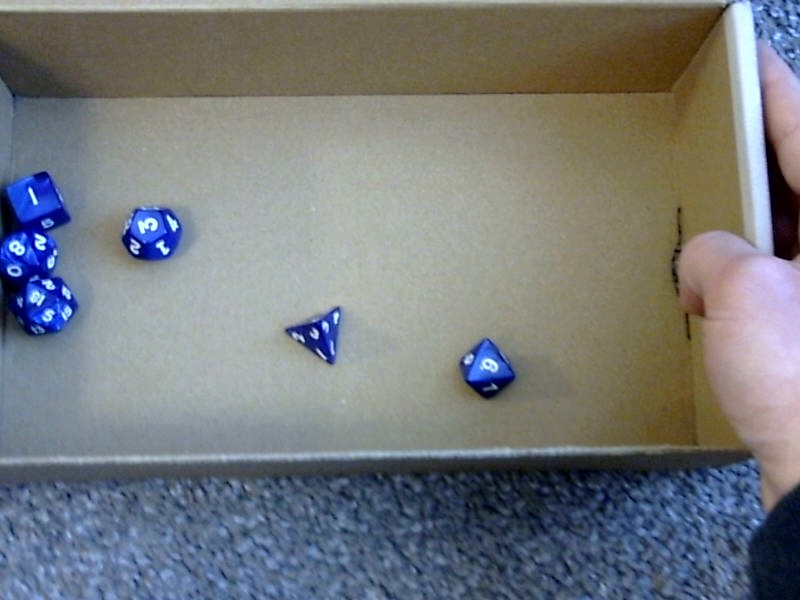d10 8: (0, 230, 67, 284)
d12 3: (116, 201, 188, 264)
d20 18: (9, 279, 84, 338)
d4 3: (284, 305, 348, 367)
d6 1: (6, 168, 80, 228)
d8 6: (452, 328, 525, 403)
